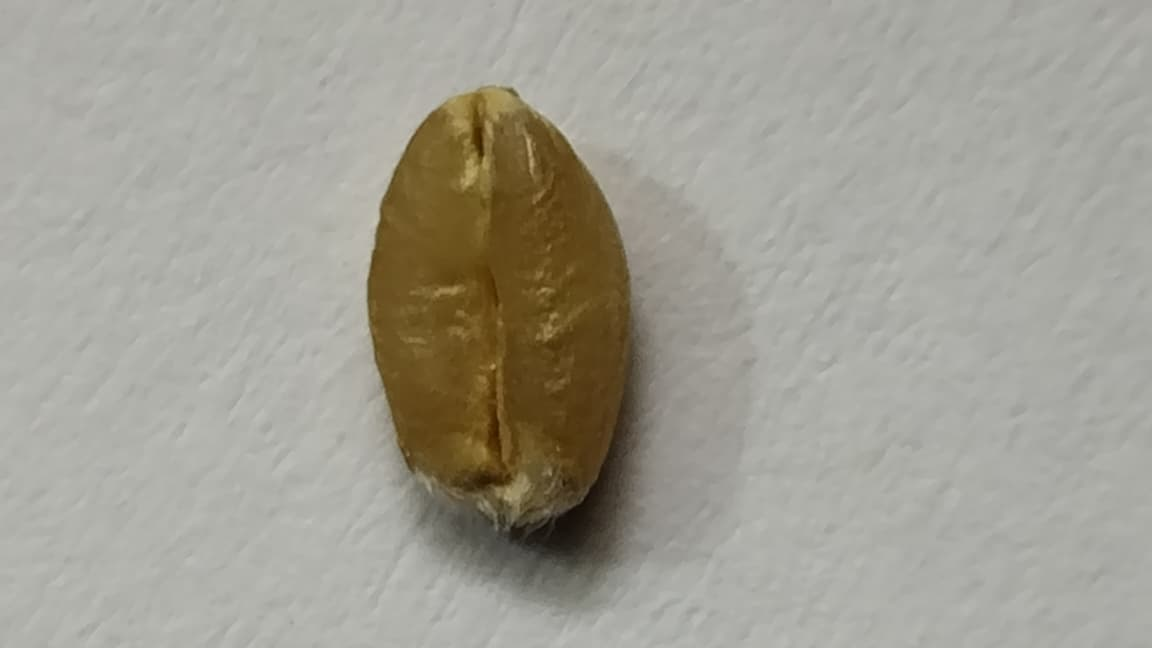healthy: (368, 88, 630, 516)
